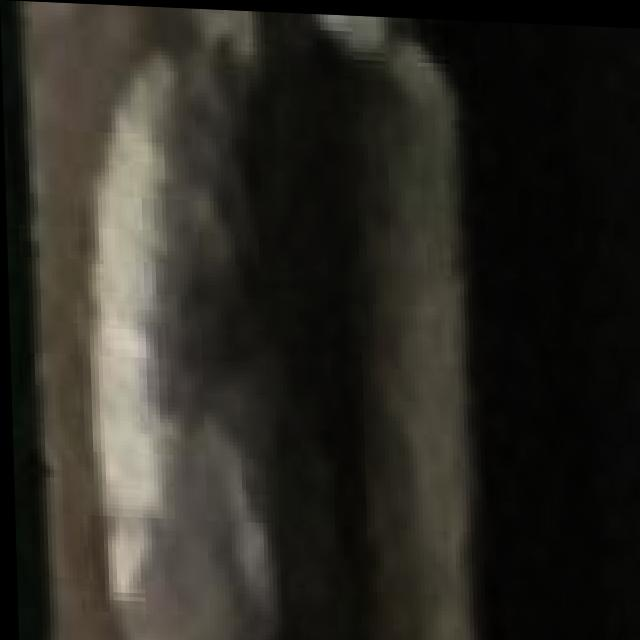diode: (260, 9, 640, 640)
